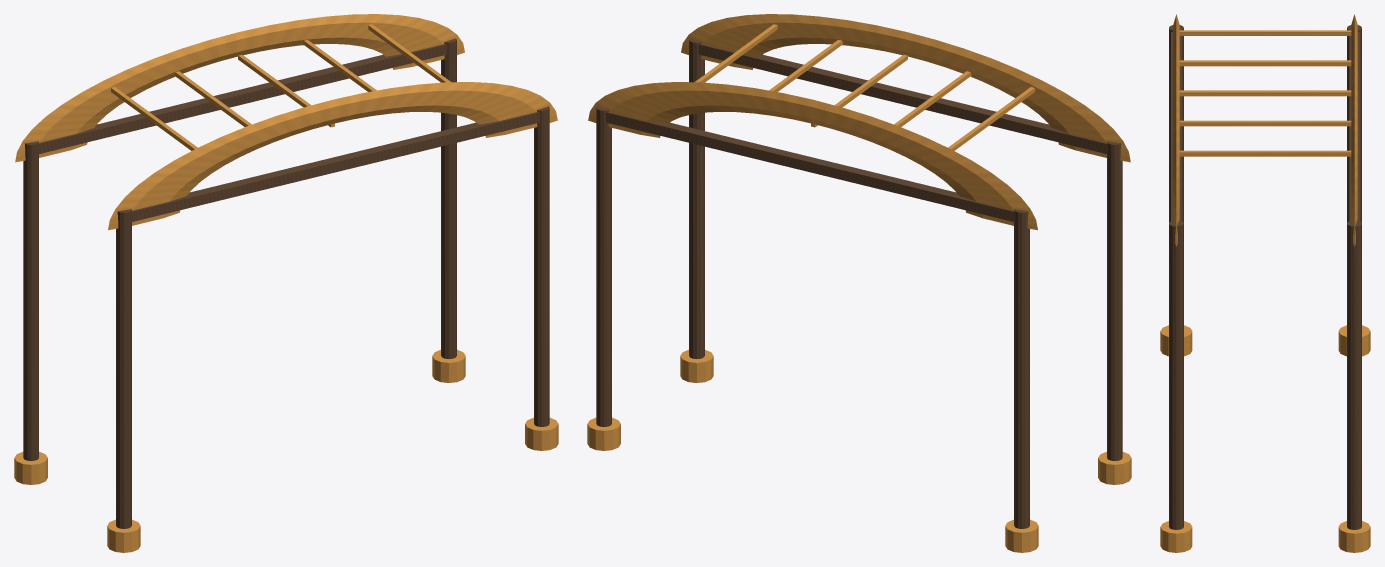
The model's file is atlas100-s011-a08.glb.
3 views of the same model, side by side, from view 1: azimuth 30°, elevation 25°; view 2: azimuth 150°, elevation 25°; view 3: azimuth 270°, elevation 25° (orthographic). The views are drawn at different scales.
Parts seen in each view (by area): view 1: atlas100-s011-a08:part-011, atlas100-s011-a08:part-010, atlas100-s011-a08:part-009, atlas100-s011-a08:part-008, atlas100-s011-a08:part-002, atlas100-s011-a08:part-000, atlas100-s011-a08:part-006, atlas100-s011-a08:part-004, atlas100-s011-a08:part-007, atlas100-s011-a08:part-001, atlas100-s011-a08:part-003, atlas100-s011-a08:part-005 (+2 smaller); view 2: atlas100-s011-a08:part-010, atlas100-s011-a08:part-011, atlas100-s011-a08:part-008, atlas100-s011-a08:part-009, atlas100-s011-a08:part-000, atlas100-s011-a08:part-002, atlas100-s011-a08:part-004, atlas100-s011-a08:part-006, atlas100-s011-a08:part-005, atlas100-s011-a08:part-003, atlas100-s011-a08:part-001, atlas100-s011-a08:part-007 (+2 smaller); view 3: atlas100-s011-a08:part-004, atlas100-s011-a08:part-006, atlas100-s011-a08:part-010, atlas100-s011-a08:part-011, atlas100-s011-a08:part-013, atlas100-s011-a08:part-014, atlas100-s011-a08:part-016, atlas100-s011-a08:part-015, atlas100-s011-a08:part-008, atlas100-s011-a08:part-009, atlas100-s011-a08:part-012, atlas100-s011-a08:part-000 (+5 smaller).
Boxes of the visible parts, x1=… form: atlas100-s011-a08:part-011: x1=108, y1=82, x2=557, y2=230; atlas100-s011-a08:part-010: x1=15, y1=14, x2=464, y2=162; atlas100-s011-a08:part-009: x1=131, y1=112, x2=539, y2=221; atlas100-s011-a08:part-008: x1=38, y1=44, x2=447, y2=154; atlas100-s011-a08:part-002: x1=116, y1=209, x2=131, y2=528; atlas100-s011-a08:part-000: x1=23, y1=141, x2=38, y2=460; atlas100-s011-a08:part-006: x1=534, y1=106, x2=549, y2=426; atlas100-s011-a08:part-004: x1=441, y1=38, x2=456, y2=358; atlas100-s011-a08:part-007: x1=525, y1=417, x2=558, y2=450; atlas100-s011-a08:part-001: x1=14, y1=451, x2=47, y2=484; atlas100-s011-a08:part-003: x1=107, y1=519, x2=140, y2=552; atlas100-s011-a08:part-005: x1=432, y1=349, x2=465, y2=382; atlas100-s011-a08:part-010: x1=588, y1=82, x2=1037, y2=230; atlas100-s011-a08:part-011: x1=681, y1=14, x2=1130, y2=162; atlas100-s011-a08:part-008: x1=606, y1=112, x2=1014, y2=221; atlas100-s011-a08:part-009: x1=698, y1=44, x2=1107, y2=154; atlas100-s011-a08:part-000: x1=1014, y1=209, x2=1029, y2=528; atlas100-s011-a08:part-002: x1=1107, y1=141, x2=1122, y2=460; atlas100-s011-a08:part-004: x1=596, y1=106, x2=611, y2=426; atlas100-s011-a08:part-006: x1=689, y1=38, x2=704, y2=358; atlas100-s011-a08:part-005: x1=587, y1=417, x2=620, y2=450; atlas100-s011-a08:part-003: x1=1098, y1=451, x2=1131, y2=484; atlas100-s011-a08:part-001: x1=1005, y1=519, x2=1038, y2=552; atlas100-s011-a08:part-007: x1=680, y1=349, x2=713, y2=382; atlas100-s011-a08:part-004: x1=1347, y1=220, x2=1361, y2=529; atlas100-s011-a08:part-006: x1=1169, y1=220, x2=1183, y2=529; atlas100-s011-a08:part-010: x1=1351, y1=14, x2=1357, y2=246; atlas100-s011-a08:part-011: x1=1173, y1=14, x2=1179, y2=246; atlas100-s011-a08:part-013: x1=1179, y1=60, x2=1351, y2=66; atlas100-s011-a08:part-014: x1=1179, y1=90, x2=1351, y2=96; atlas100-s011-a08:part-016: x1=1179, y1=150, x2=1351, y2=156; atlas100-s011-a08:part-015: x1=1179, y1=120, x2=1351, y2=126; atlas100-s011-a08:part-008: x1=1349, y1=31, x2=1359, y2=221; atlas100-s011-a08:part-009: x1=1171, y1=31, x2=1181, y2=221; atlas100-s011-a08:part-012: x1=1179, y1=30, x2=1351, y2=35; atlas100-s011-a08:part-000: x1=1347, y1=25, x2=1361, y2=222.
Size of the model in its own units: 5.6 by 4.7 by 2.36.
2 materials, 2 textured.
